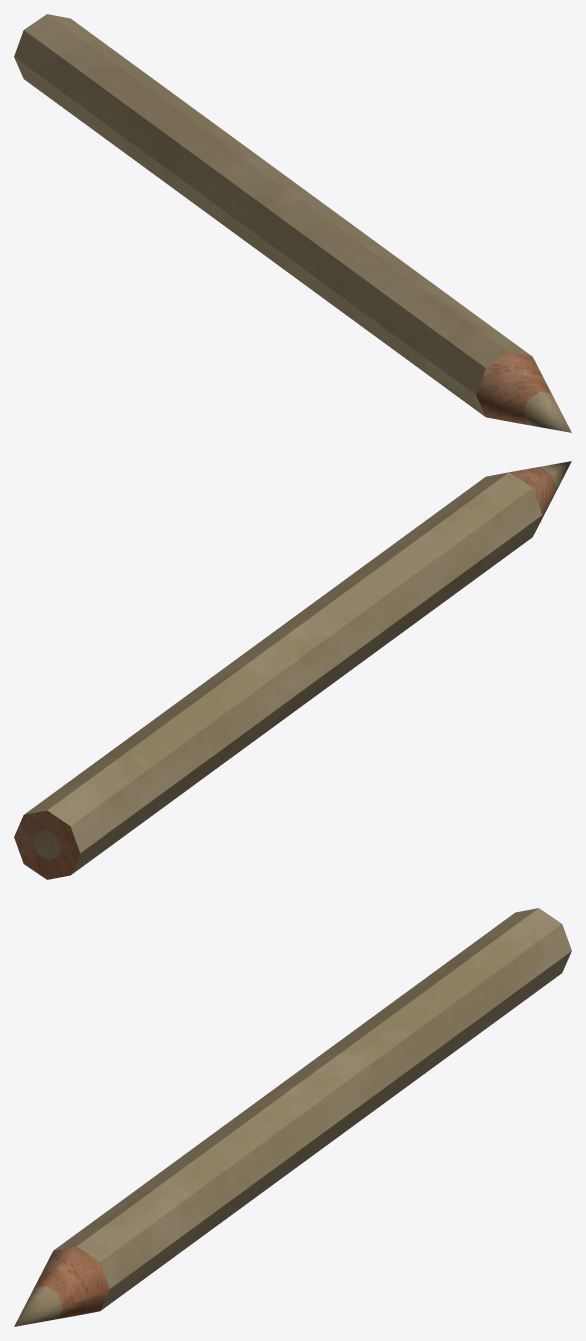
The model's file is Pencil_white.fbx.
3 renders of one model, top to bottom at view 1: azimuth 30°, elevation 25°; view 2: azimuth 150°, elevation 25°; view 3: azimuth 330°, elevation 25°, orthographic.
Visible parts, largest first — view 1: Pencil.005; view 2: Pencil.005; view 3: Pencil.005.
Part boxes in pixels (x1,y1,x2,y2): Pencil.005: [14, 14, 571, 432]; Pencil.005: [14, 461, 571, 879]; Pencil.005: [14, 908, 571, 1326].
Size of the model in its own units: 14.61 by 14.61 by 200.
